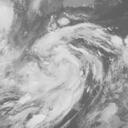cyclone: (30, 22, 114, 105)
